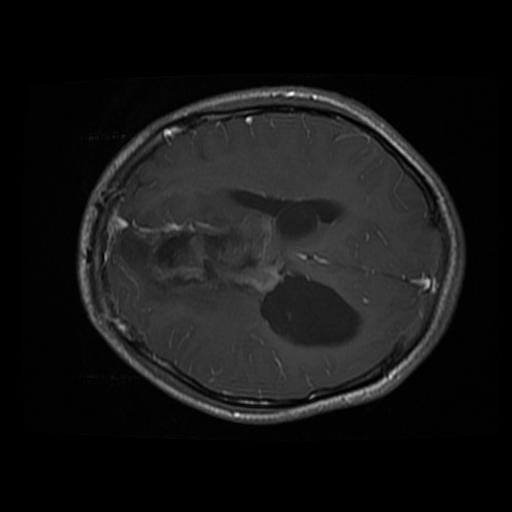glioma: (118, 189, 283, 307)
